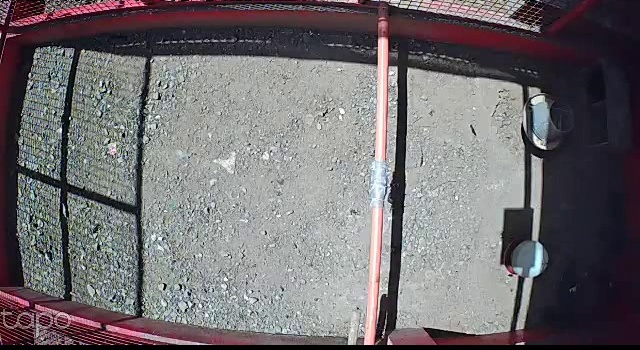Drinker: (505, 238, 550, 281)
Feeder: (521, 91, 580, 155)
